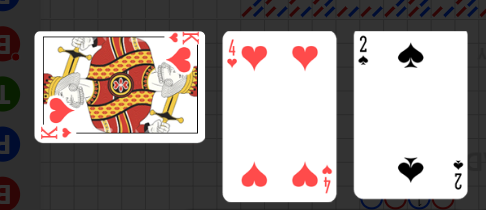2S: (357, 35, 370, 68)
4H: (226, 39, 239, 69)
KH: (39, 125, 73, 141)
